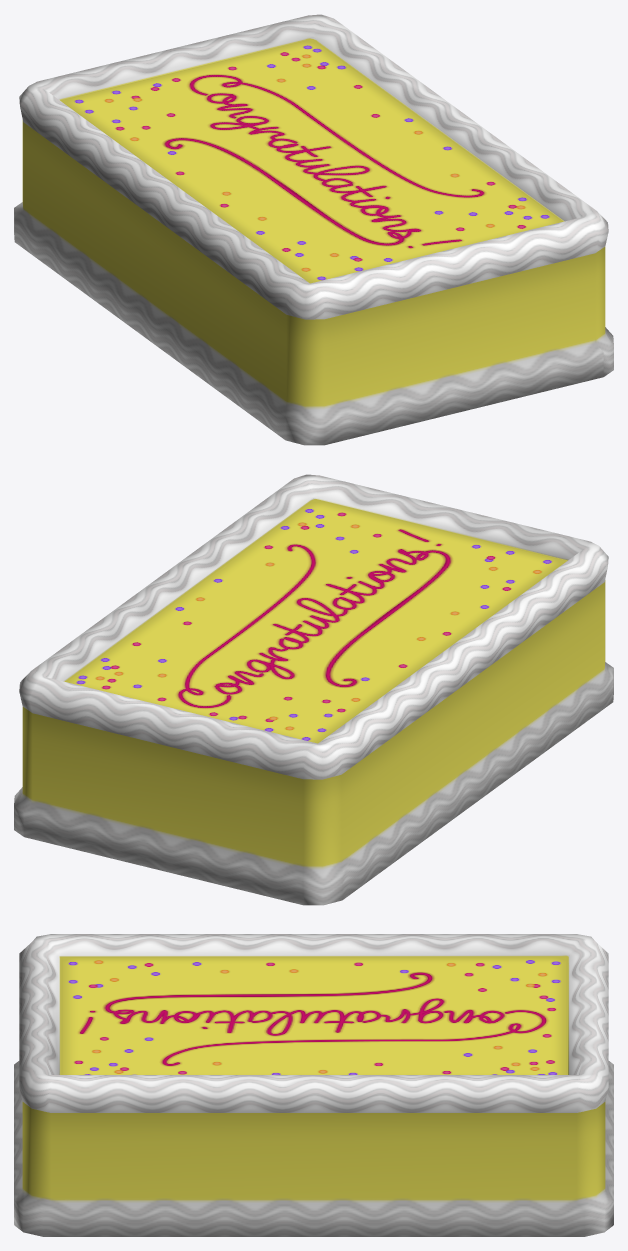
The model's file is Congrats_SheetCake.fbx.
3 renders of one model, top to bottom at view 1: azimuth 30°, elevation 25°; view 2: azimuth 150°, elevation 25°; view 3: azimuth 270°, elevation 25°, orthographic.
Parts seen in each view (by area): view 1: Congrats_SheetCake; view 2: Congrats_SheetCake; view 3: Congrats_SheetCake.
Part boxes in pixels (<box>): Congrats_SheetCake: <box>14,14,613,445</box>; Congrats_SheetCake: <box>14,474,613,905</box>; Congrats_SheetCake: <box>14,934,613,1236</box>.
Size of the model in its own units: 76.45 by 33.31 by 121.
